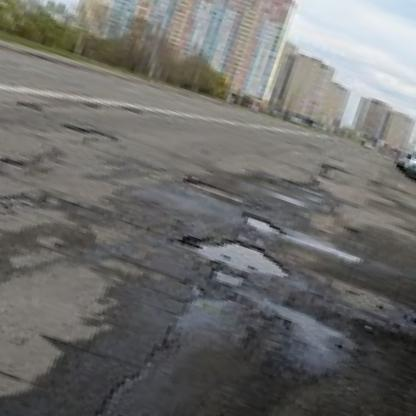pothole: (181, 222, 294, 287), (181, 173, 245, 205), (67, 120, 119, 145), (242, 214, 288, 241), (207, 263, 248, 293)
